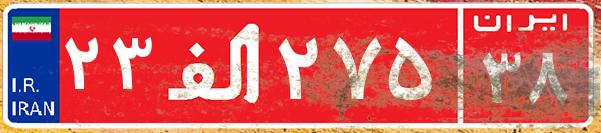2: (273, 28, 330, 110), (57, 26, 110, 107)
3: (475, 38, 525, 113), (110, 28, 158, 105)
5: (385, 28, 445, 110)
7: (330, 28, 385, 110)
8: (525, 38, 570, 115)
الف: (158, 15, 273, 115)
